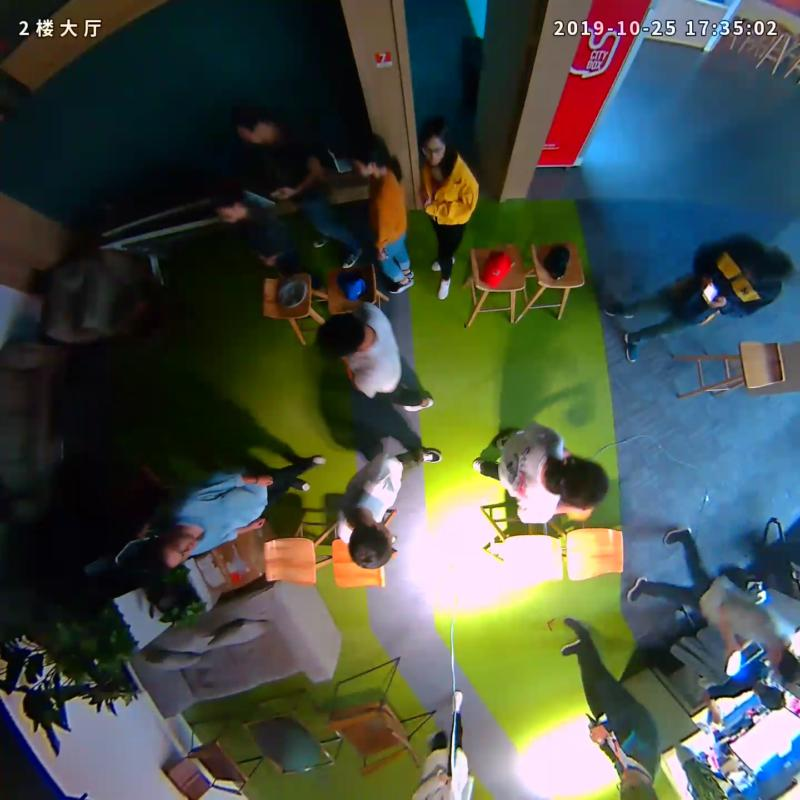head: (552, 455, 607, 507), (317, 313, 367, 360), (145, 530, 198, 574), (350, 524, 398, 568), (743, 243, 792, 285), (343, 132, 387, 178), (235, 103, 281, 146), (417, 117, 449, 168), (614, 765, 657, 800), (763, 642, 800, 682), (210, 187, 248, 224)
